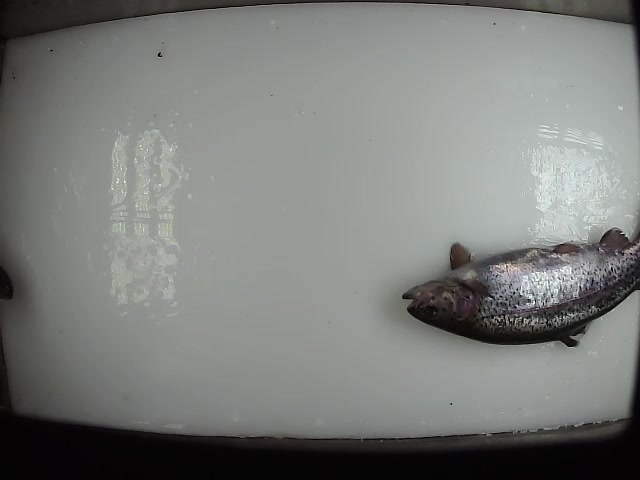fish: (398, 225, 640, 350)
